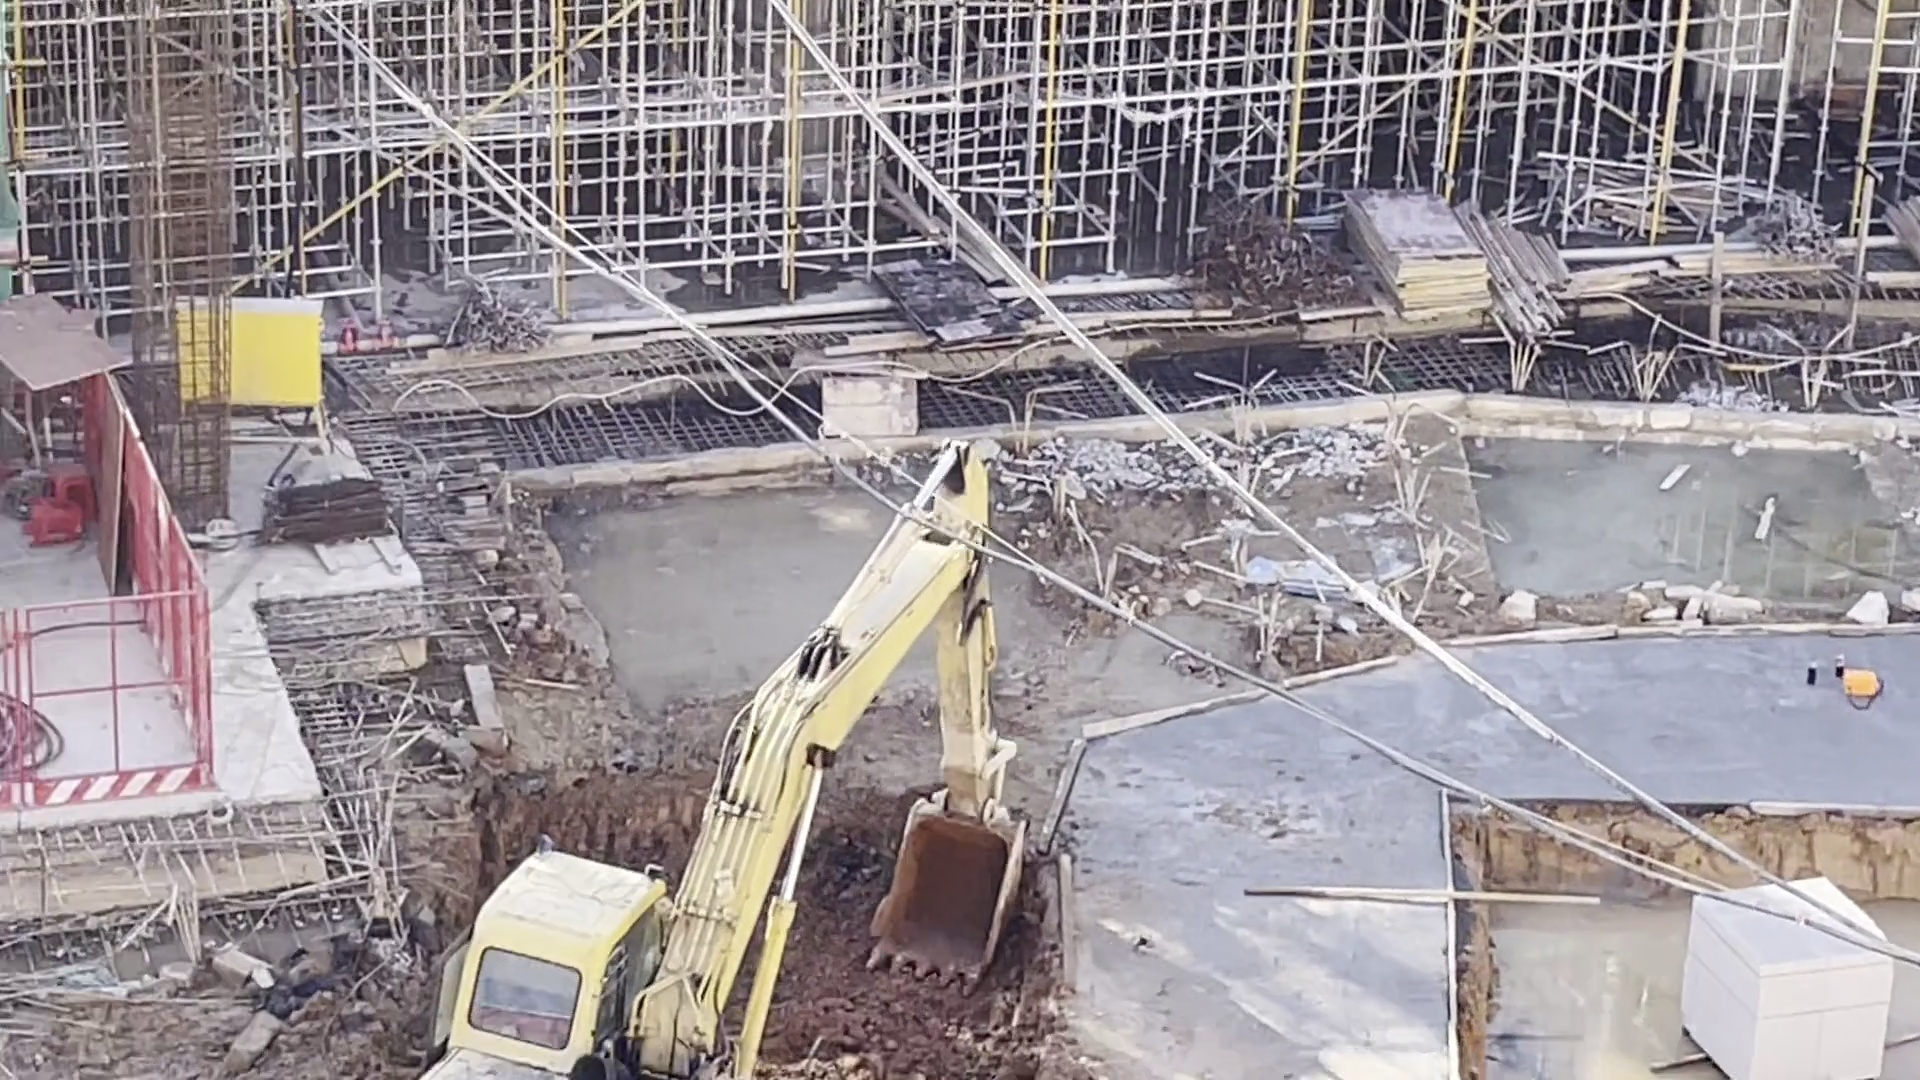board: (1340, 179, 1495, 326)
brick: (1680, 949, 1894, 1080)
ebox: (236, 293, 340, 469)
fence: (28, 591, 218, 812), (115, 400, 215, 757)
